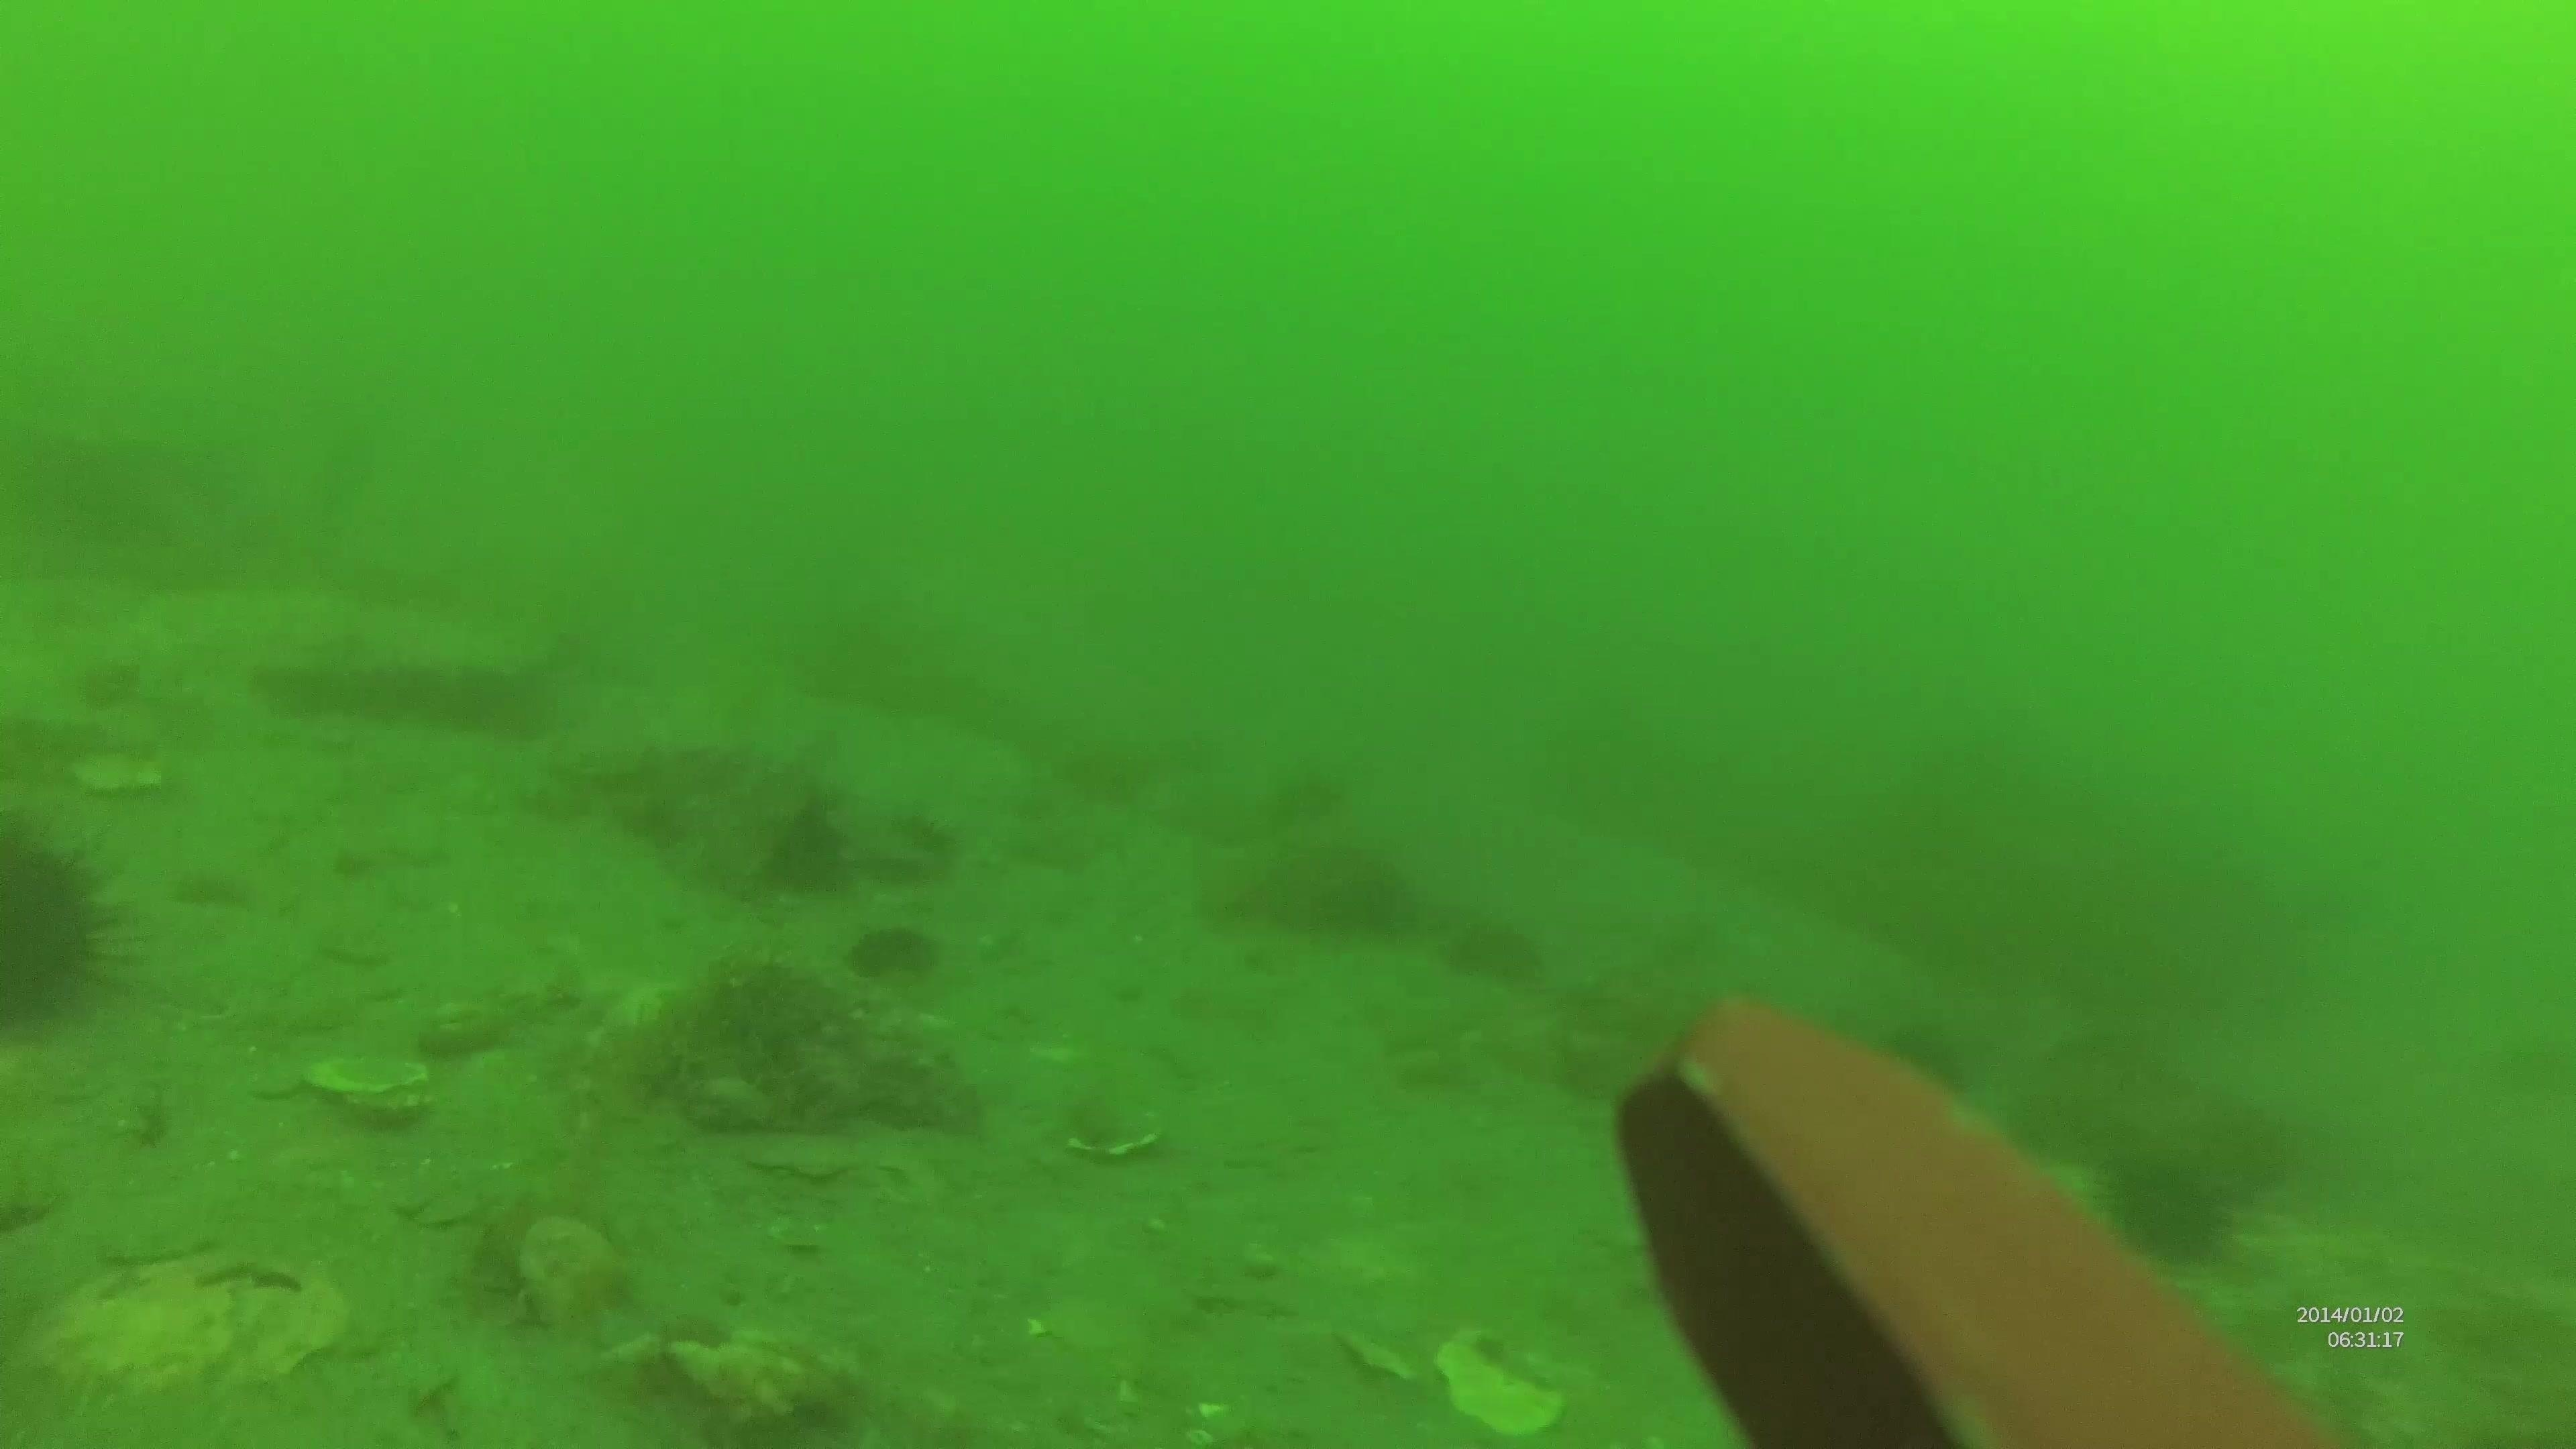echinus: (2, 816, 131, 1042), (2097, 1143, 2243, 1274)
